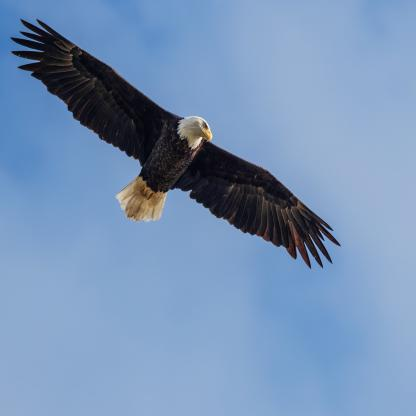bird: (12, 17, 342, 270)
